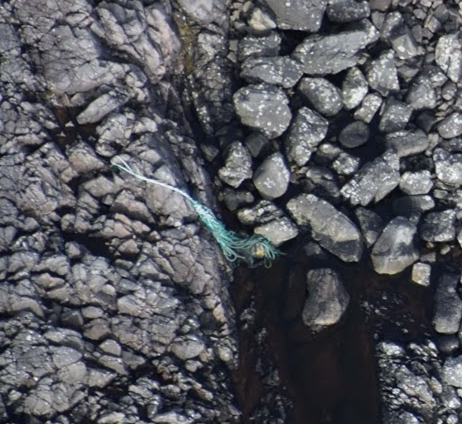net: (174, 184, 284, 265)
tube: (105, 154, 194, 199)
